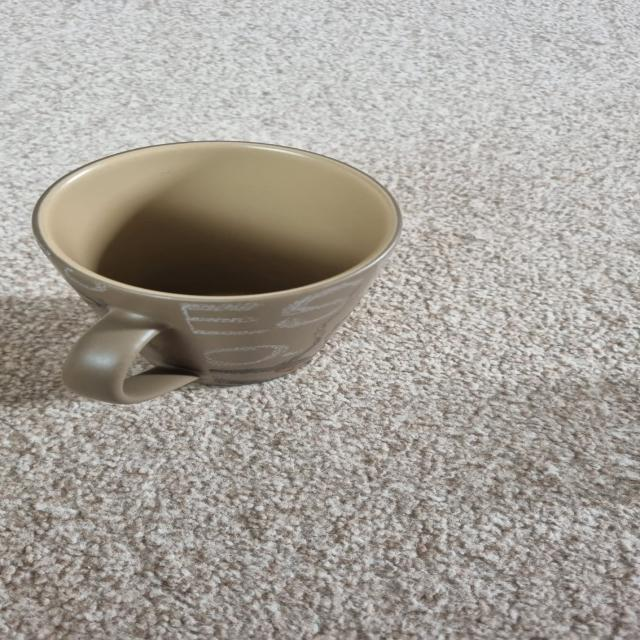Cup: (32, 141, 402, 403)
